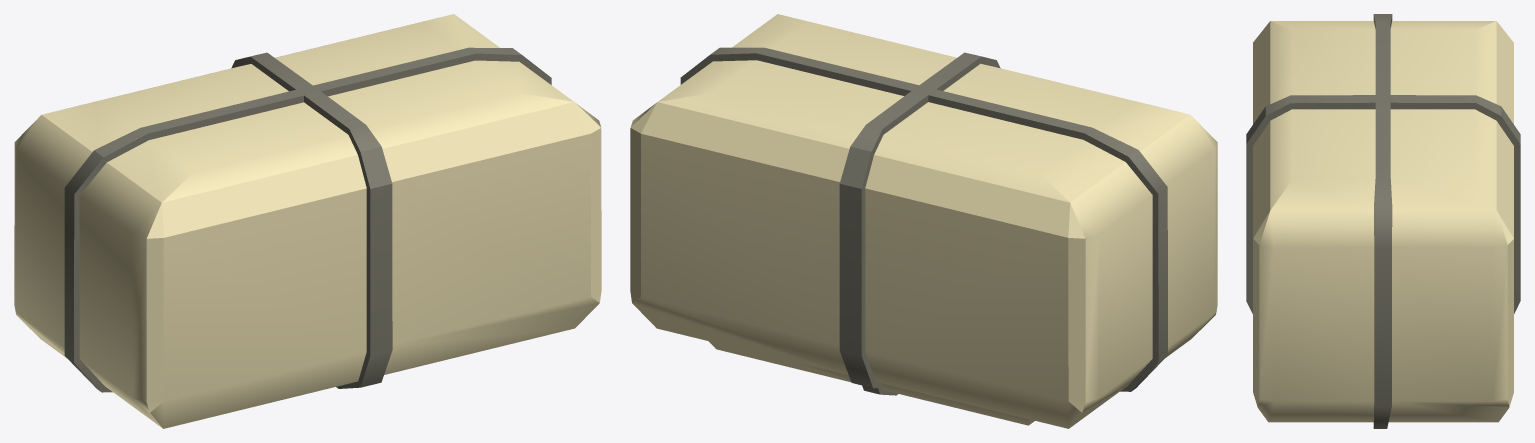
File: Packages.fbx
The picture shows the model from 3 angles, left to right: view 1: azimuth 30°, elevation 25°; view 2: azimuth 150°, elevation 25°; view 3: azimuth 270°, elevation 25°; orthographic projection. The views are drawn at different scales.
Parts seen in each view (by area): view 1: Pakage_Large; view 2: Pakage_Large, Pakage_Medium_; view 3: Pakage_Large.
Part boxes in pixels (bbox=[...]): Pakage_Large: bbox=[14, 14, 601, 428]; Pakage_Large: bbox=[630, 14, 1217, 428]; Pakage_Medium_: bbox=[708, 341, 1034, 425]; Pakage_Large: bbox=[1246, 14, 1520, 428].
Bounding box in the file's own units: 303 × 166 × 160.
Materials: 1 (1 with a texture image).
